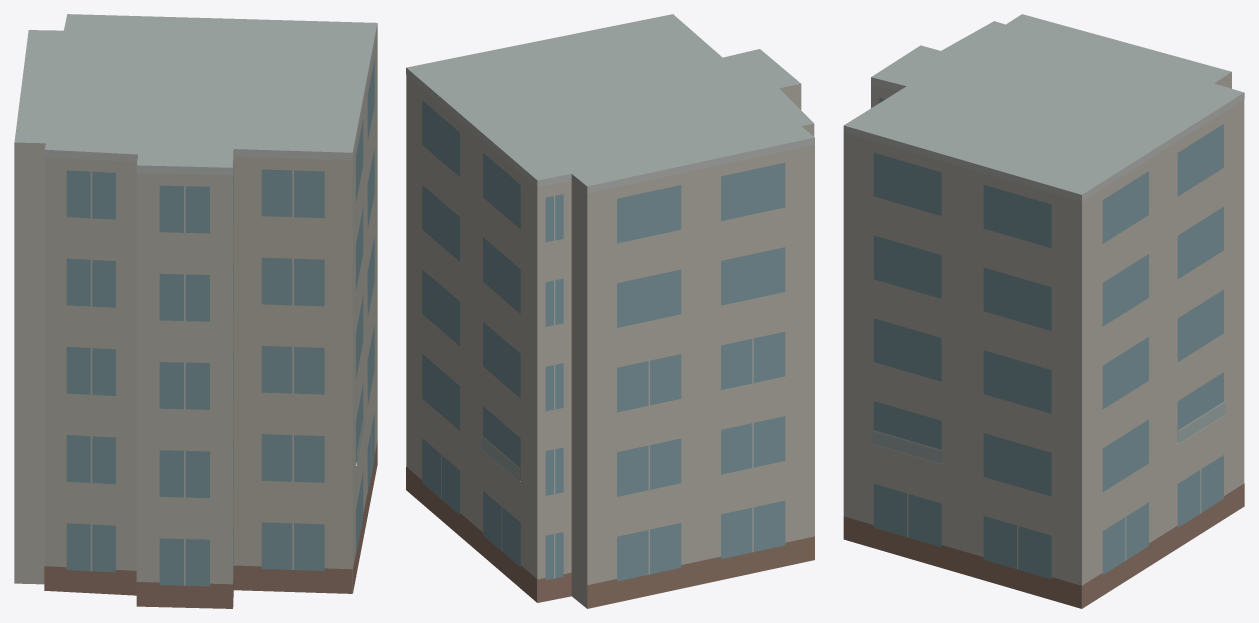
Rendered from survey-upis-32887800.glb.
3 renders of one model, left to right at view 1: azimuth 30°, elevation 25°; view 2: azimuth 150°, elevation 25°; view 3: azimuth 270°, elevation 25°, orthographic. The views are drawn at different scales.
Parts seen in each view (by area): view 1: survey-upis-32887800.tmp; view 2: survey-upis-32887800.tmp; view 3: survey-upis-32887800.tmp.
Part boxes in pixels (<box>): survey-upis-32887800.tmp: <box>14,14,377,608</box>; survey-upis-32887800.tmp: <box>406,14,814,608</box>; survey-upis-32887800.tmp: <box>843,14,1244,608</box>.
Size of the model in its own units: 13.5 by 14.4 by 12.64.
